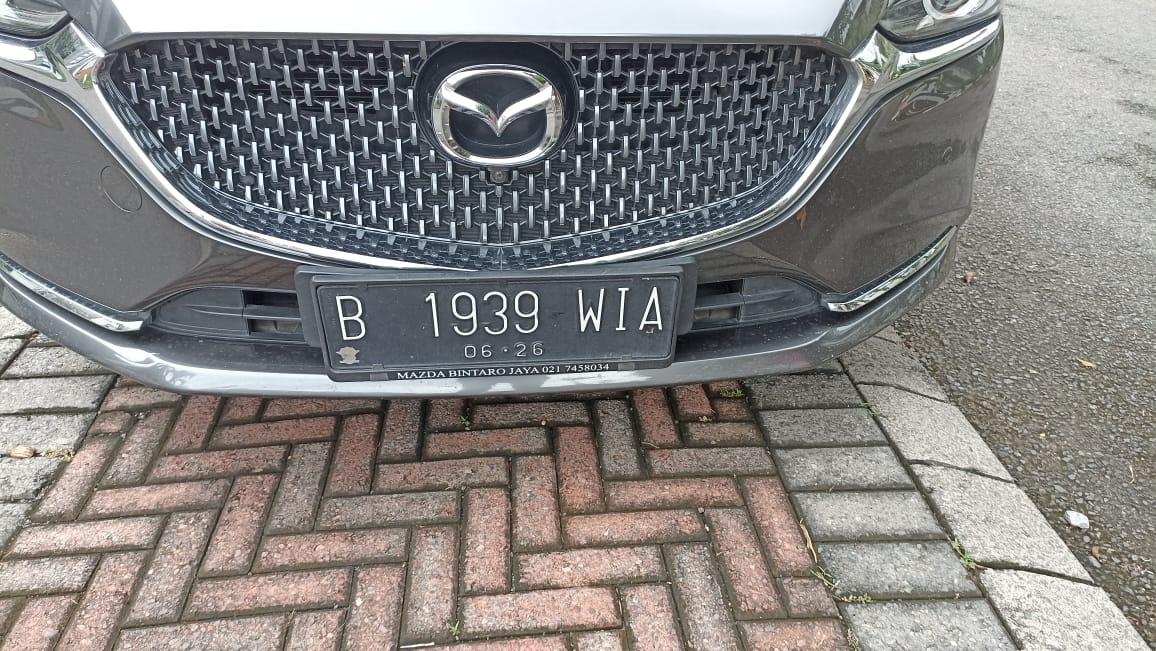plat: (314, 273, 680, 382)
